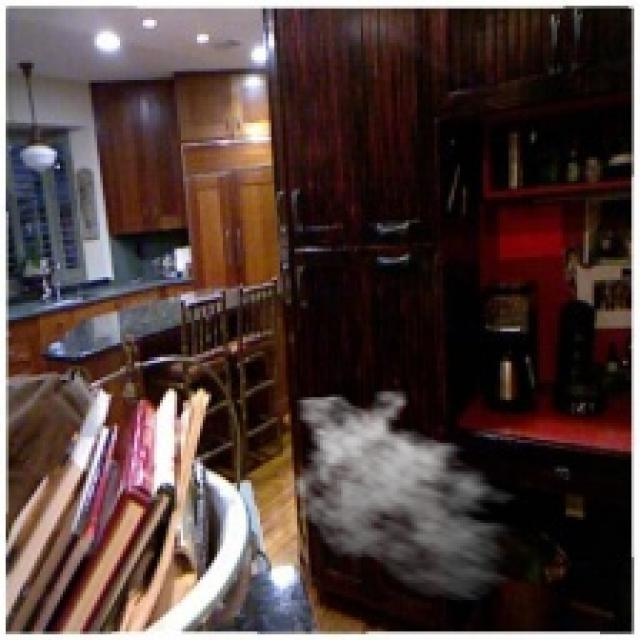Smoke: (282, 388, 528, 603)
